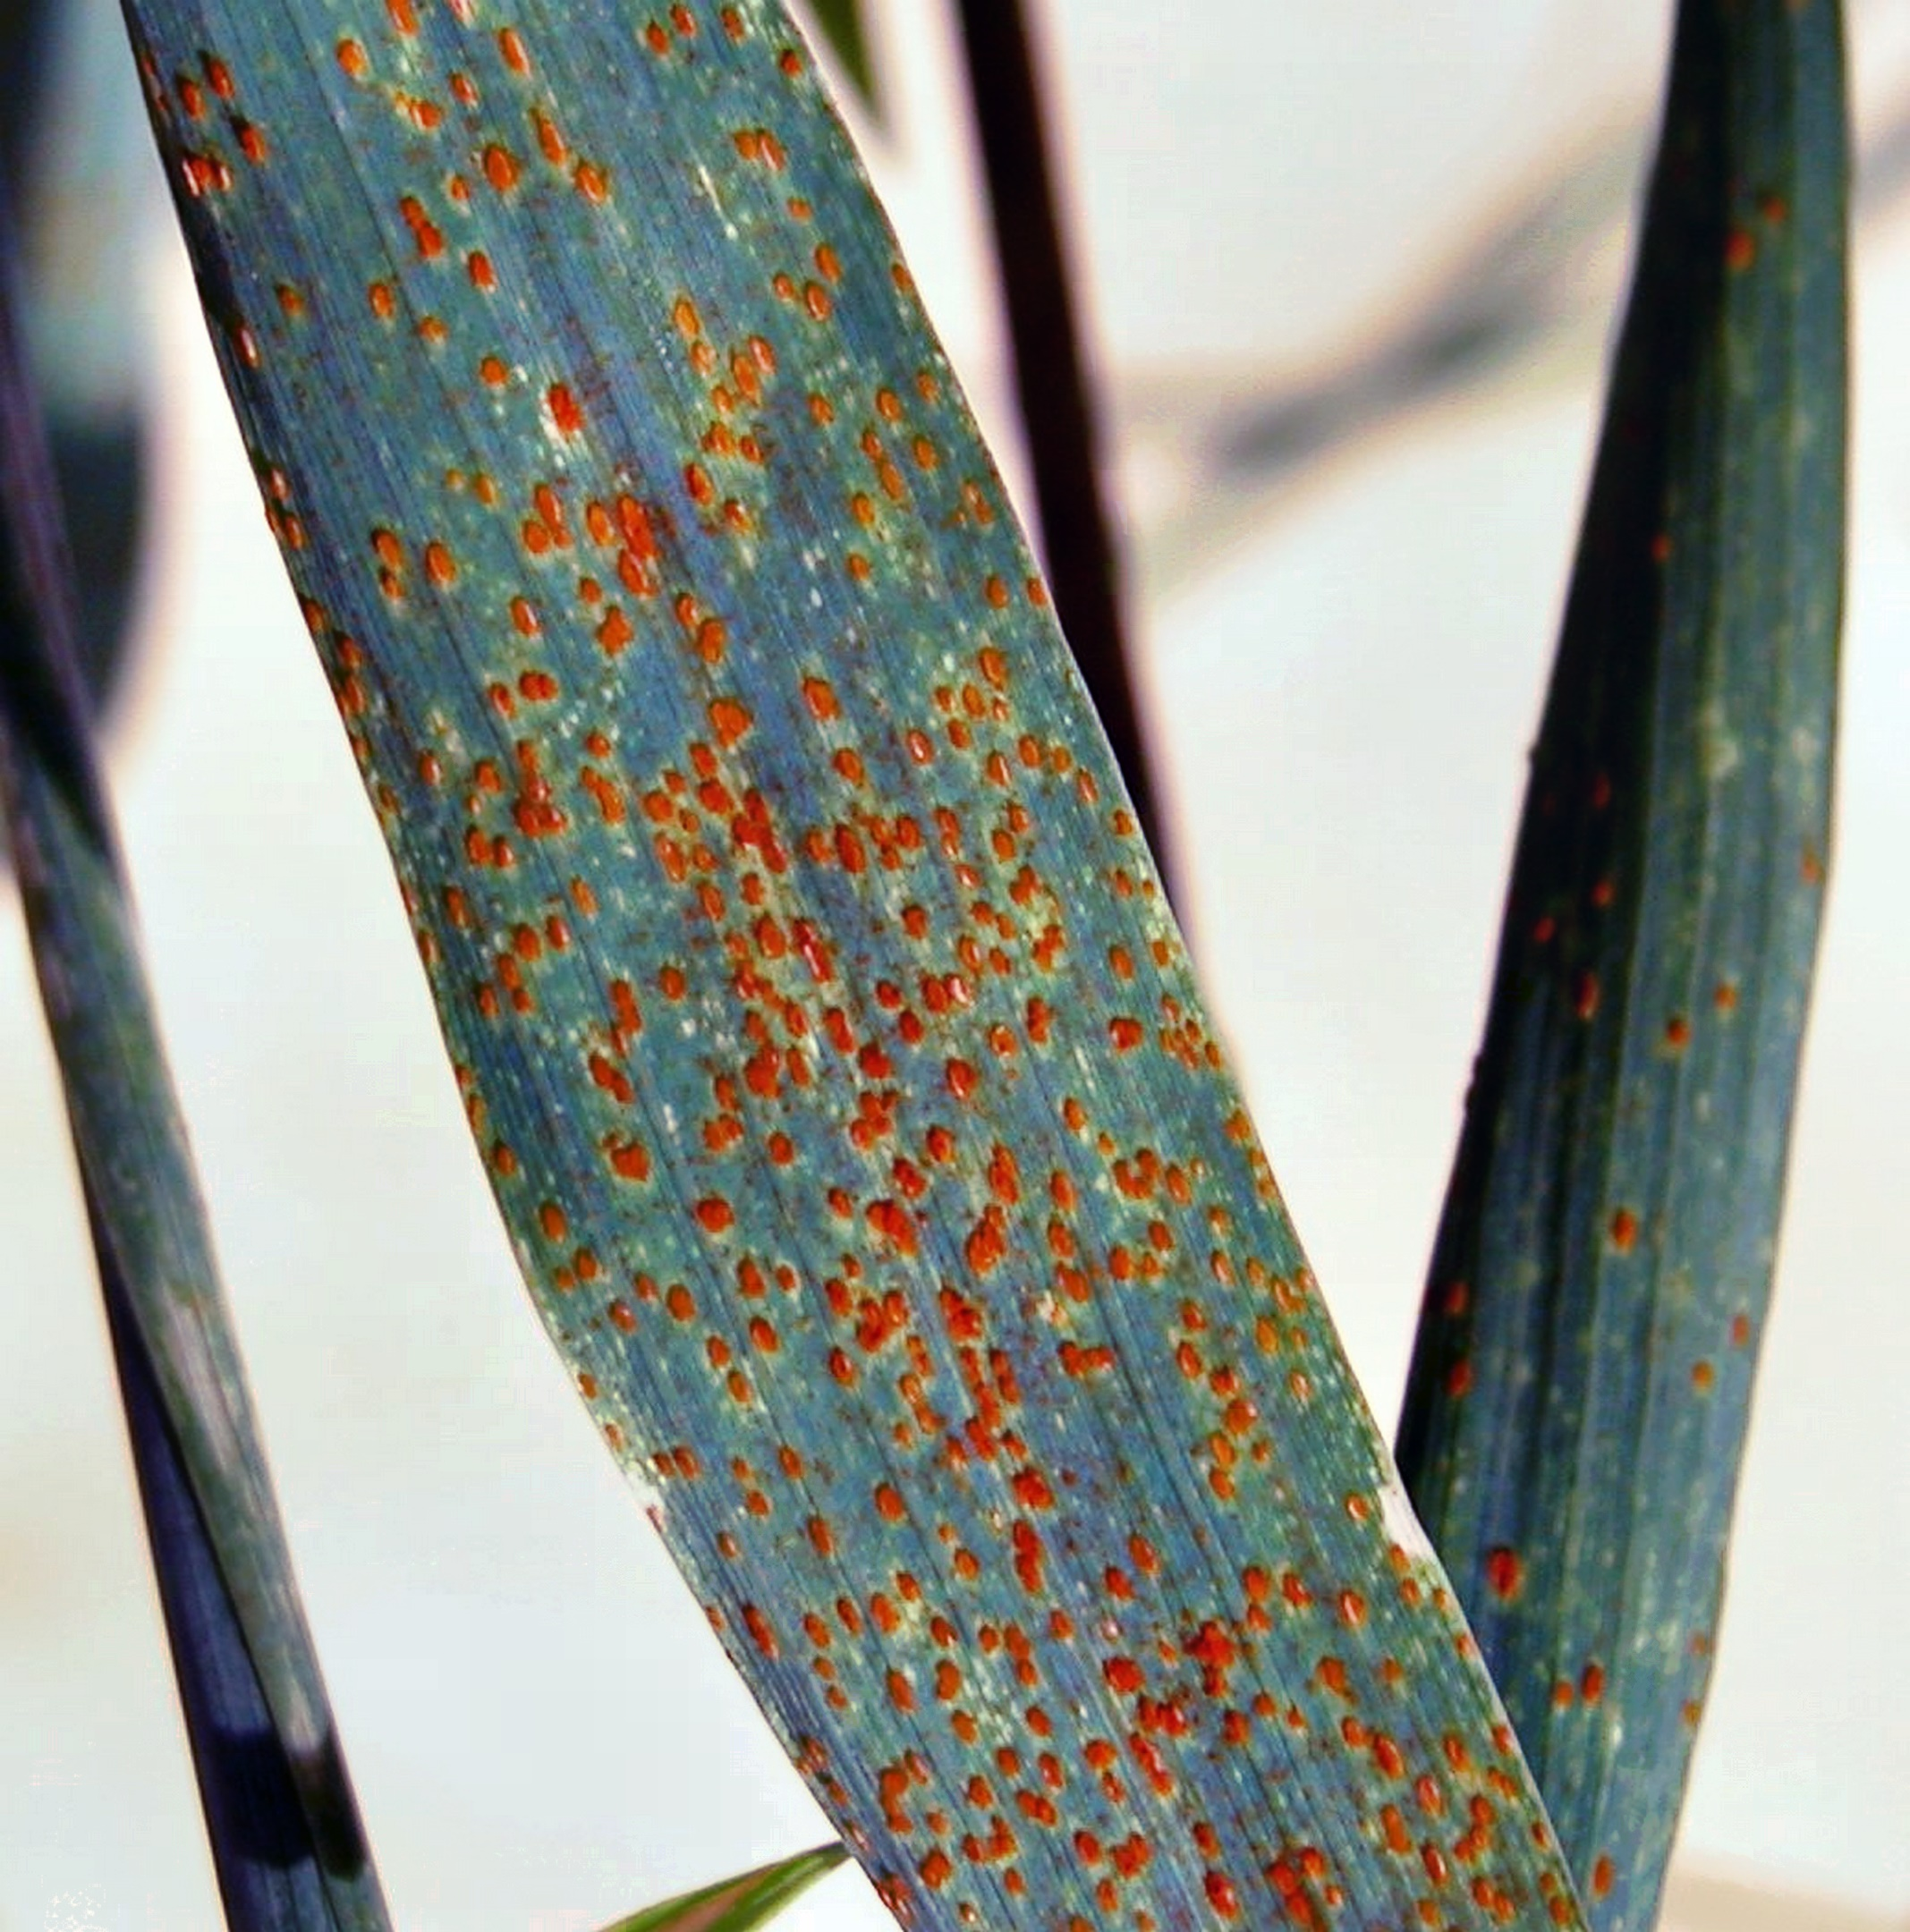Leaf Rust: (241, 295, 1544, 1857)
